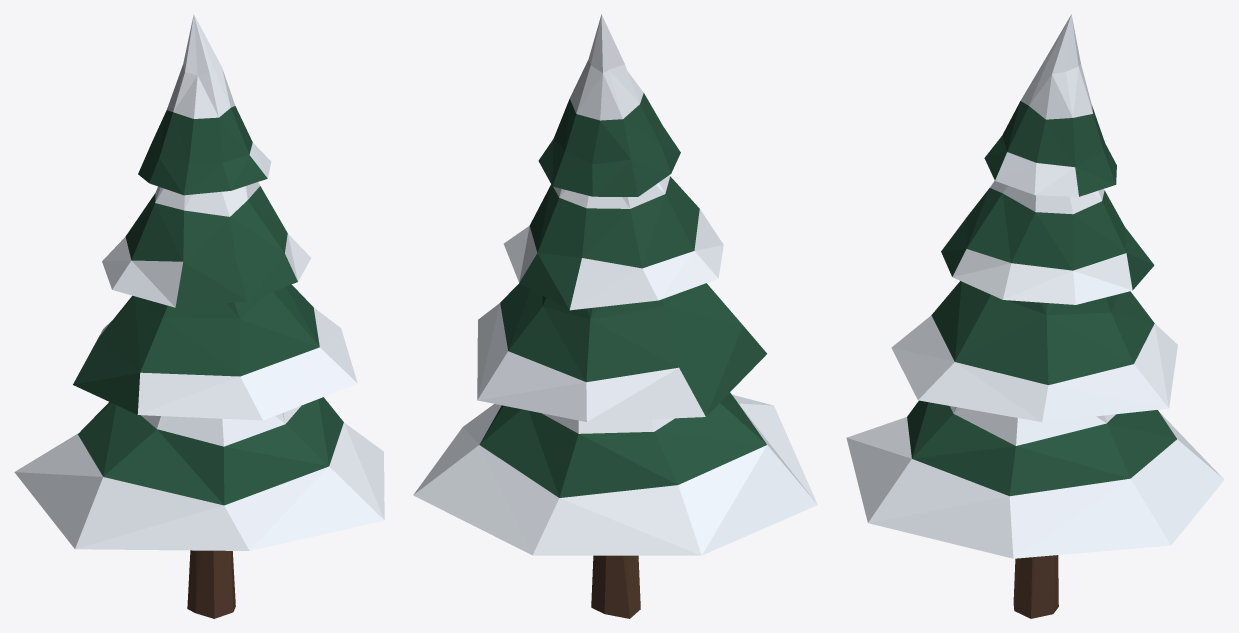
File: pine_leaning.glb
3 renders of one model, left to right at view 1: azimuth 30°, elevation 25°; view 2: azimuth 150°, elevation 25°; view 3: azimuth 270°, elevation 25°, orthographic. The views are drawn at different scales.
Visible parts, largest first — view 1: pine_leaning; view 2: pine_leaning; view 3: pine_leaning.
Boxes of the visible parts, x1,y1,x2,y2 form: pine_leaning: [14, 14, 384, 618]; pine_leaning: [413, 14, 817, 618]; pine_leaning: [846, 14, 1224, 618].
Size of the model in its own units: 7.44 by 12.77 by 7.37.
1 material, 1 textured.
